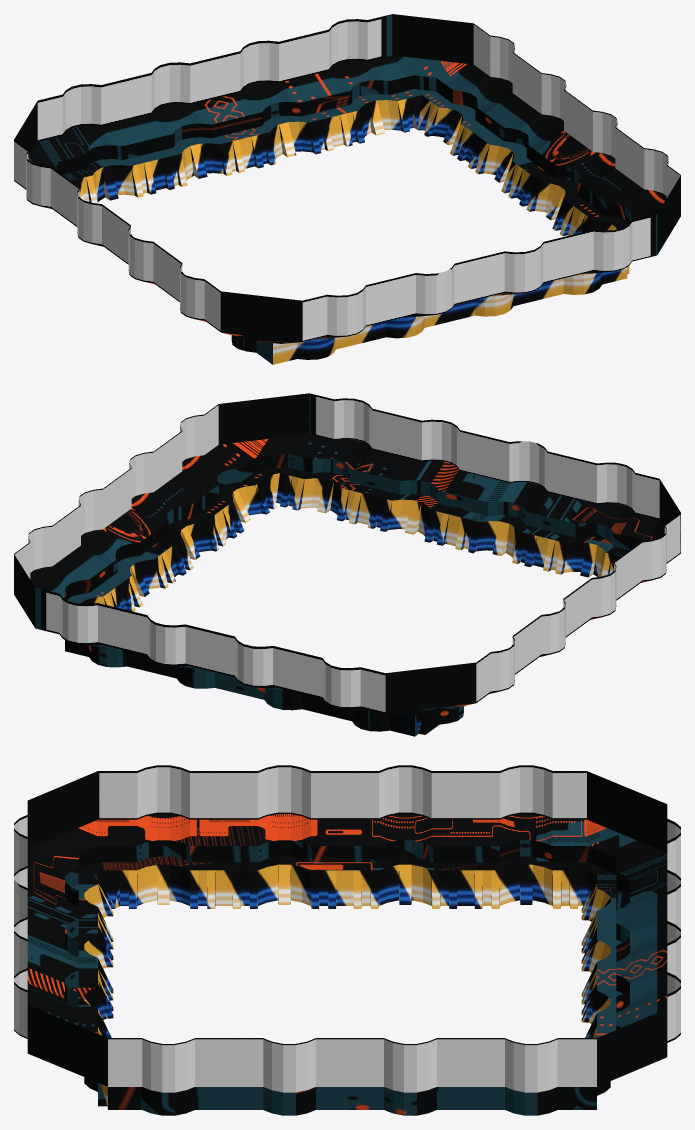
The model's file is yzta_2_arena.fbx.
3 renders of one model, top to bottom at view 1: azimuth 30°, elevation 25°; view 2: azimuth 150°, elevation 25°; view 3: azimuth 270°, elevation 25°, orthographic. The views are drawn at different scales.
Visible parts, largest first — view 1: diagon; view 2: diagon; view 3: diagon.
Boxes of the visible parts, x1=… form: diagon: x1=14, y1=14, x2=680, y2=364; diagon: x1=14, y1=393, x2=680, y2=736; diagon: x1=14, y1=765, x2=680, y2=1115.
Bounding box in the file's own units: 3695 × 629 × 3739.
Materials: 4 (4 with a texture image).
